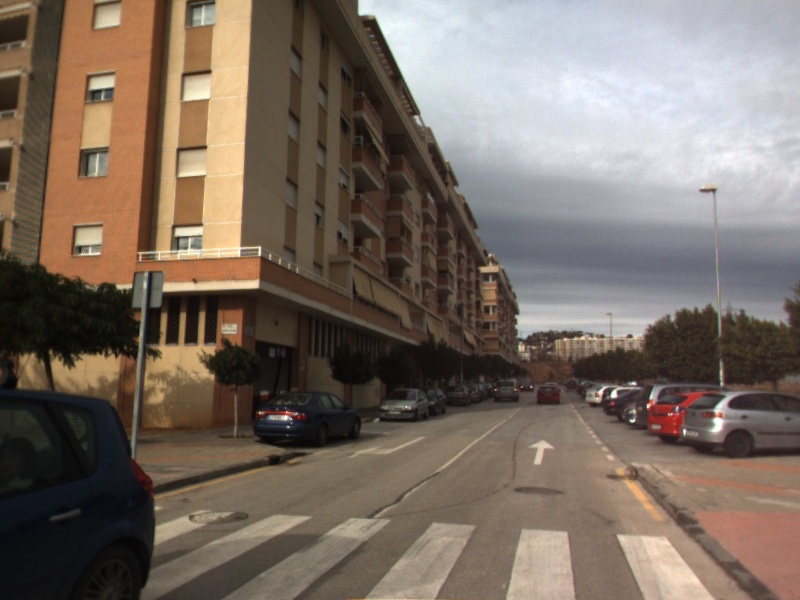STRAIGHT: (526, 438, 557, 467)
